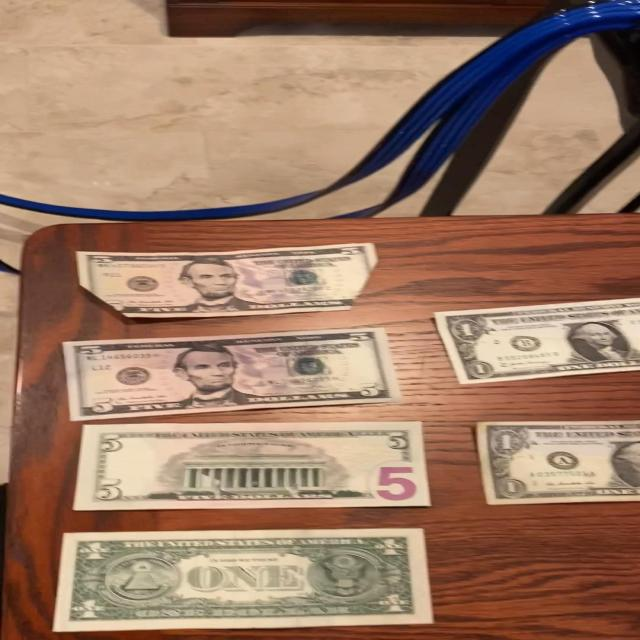1-Back: (49, 522, 442, 632)
1-Front: (426, 294, 640, 388), (472, 419, 640, 505)
5-Back: (75, 416, 432, 512)
5-Front: (62, 328, 404, 424), (70, 239, 386, 318)
